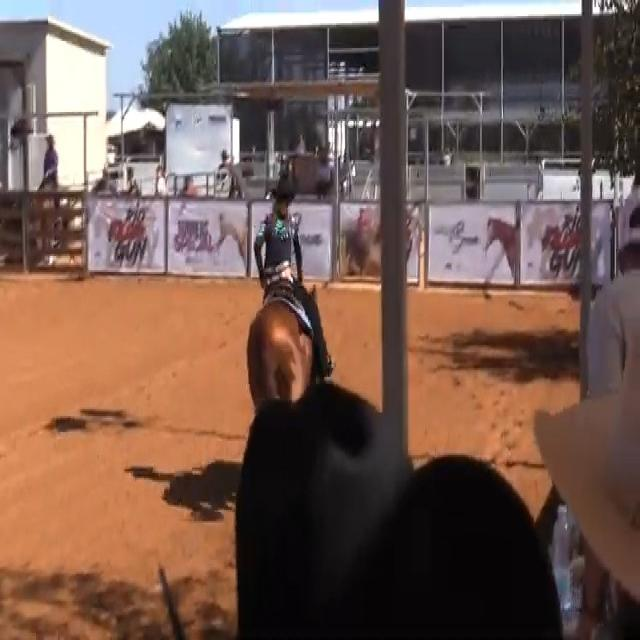horse: (245, 277, 325, 409)
